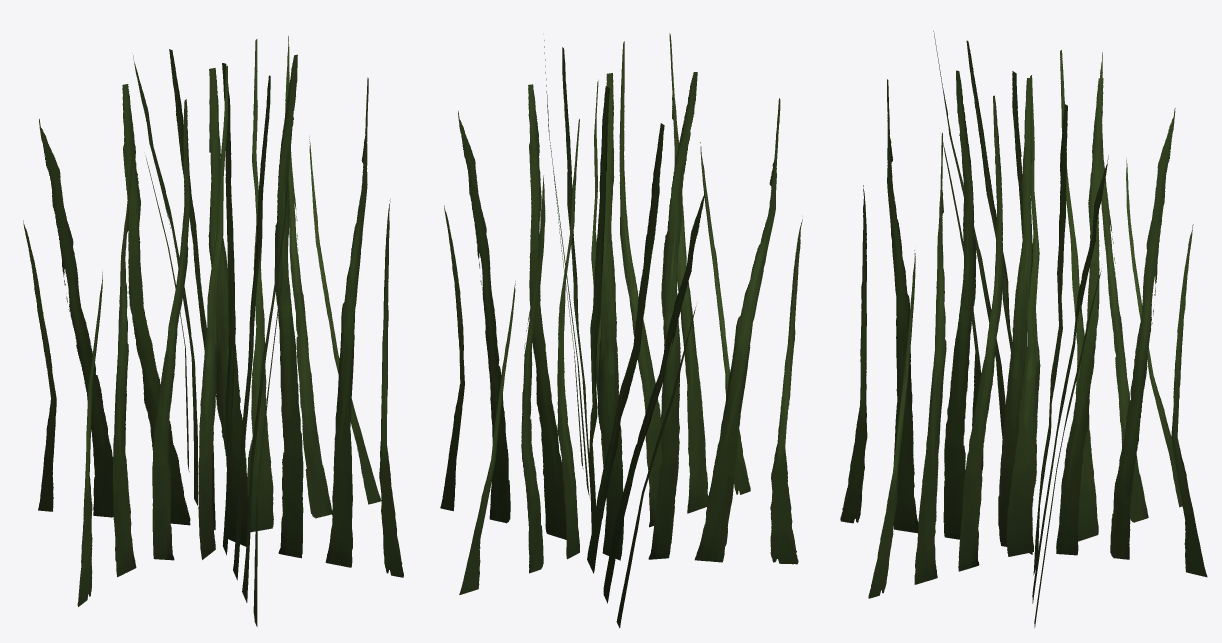
File: b_Grass02.fbx
3 renders of one model, left to right at view 1: azimuth 30°, elevation 25°; view 2: azimuth 150°, elevation 25°; view 3: azimuth 270°, elevation 25°, orthographic. The views are drawn at different scales.
Parts seen in each view (by area): view 1: Grass01; view 2: Grass01; view 3: Grass01.
Part boxes in pixels (x1,y1,x2,y2): Grass01: (23, 36, 403, 626); Grass01: (440, 33, 802, 628); Grass01: (840, 31, 1207, 627).
Bounding box in the file's own units: 0.7645 × 1.09 × 0.7283.
1 material, 1 textured.
